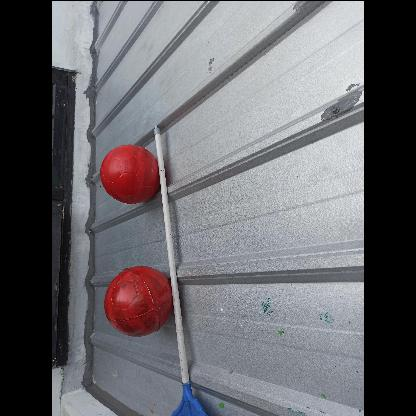red_ball: (103, 266, 173, 336), (98, 140, 162, 204)
